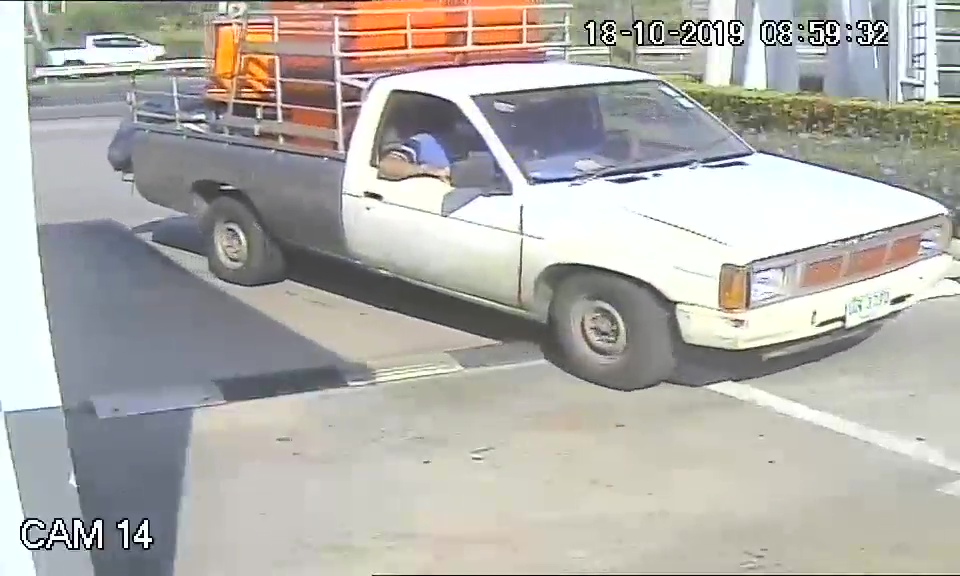pickup: (122, 61, 955, 391)
